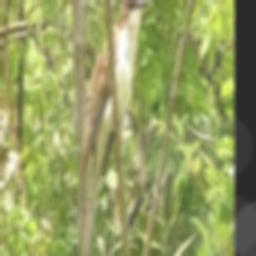Cuckoo: (80, 0, 149, 256)
